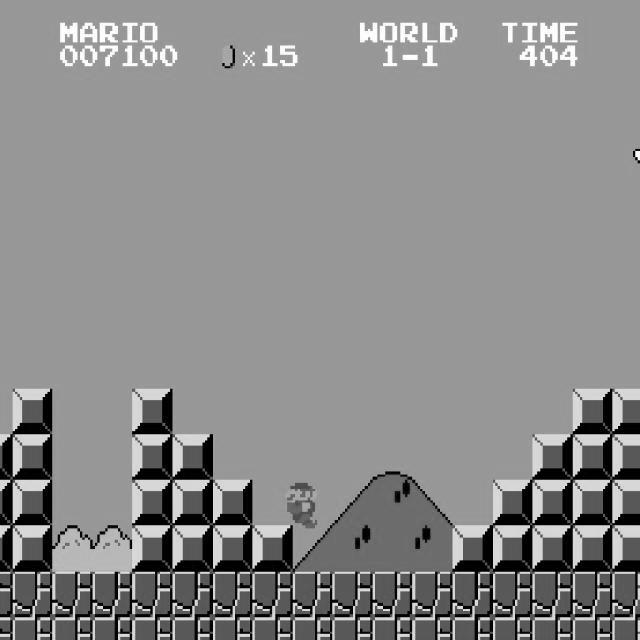11- little_mario: (277, 479, 320, 528)
17- undestructible_block: (12, 572, 53, 618), (52, 572, 93, 618), (92, 572, 133, 618), (132, 572, 173, 618), (172, 572, 213, 618), (212, 572, 253, 618), (252, 572, 293, 618), (292, 572, 333, 618), (332, 572, 373, 618), (372, 572, 413, 618), (412, 572, 453, 618), (452, 572, 493, 618), (492, 572, 533, 618), (532, 572, 573, 618), (572, 572, 613, 618), (612, 572, 640, 618), (12, 617, 53, 640), (52, 617, 93, 640), (92, 617, 133, 640), (132, 617, 173, 640), (172, 617, 213, 640), (212, 617, 253, 640), (252, 617, 293, 640), (292, 617, 333, 640), (332, 617, 373, 640), (372, 617, 413, 640), (412, 617, 453, 640), (452, 617, 493, 640), (492, 617, 533, 640), (532, 617, 573, 640), (572, 617, 613, 640), (612, 617, 640, 640), (0, 572, 13, 618), (0, 617, 13, 640)
9- hard_block: (12, 388, 53, 434), (12, 434, 53, 480), (12, 480, 53, 526), (12, 526, 53, 572), (132, 388, 173, 434), (132, 434, 173, 480), (132, 480, 173, 526), (132, 526, 173, 572), (172, 434, 213, 480), (172, 480, 213, 526), (172, 526, 213, 572), (212, 480, 253, 526), (212, 526, 253, 572), (252, 526, 293, 572), (452, 526, 493, 572), (492, 480, 533, 526), (492, 526, 533, 572), (532, 434, 573, 480), (532, 480, 573, 526), (532, 526, 573, 572), (572, 388, 613, 434), (572, 434, 613, 480), (572, 480, 613, 526), (572, 526, 613, 572), (612, 388, 640, 434), (612, 434, 640, 480), (612, 480, 640, 526), (612, 526, 640, 572), (0, 434, 13, 480), (0, 480, 13, 526), (0, 526, 13, 572)
